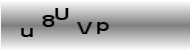8: (41, 13, 55, 28)
U: (55, 6, 69, 21)
V: (76, 20, 93, 36)
p: (95, 20, 110, 35)
u: (20, 27, 35, 38)
